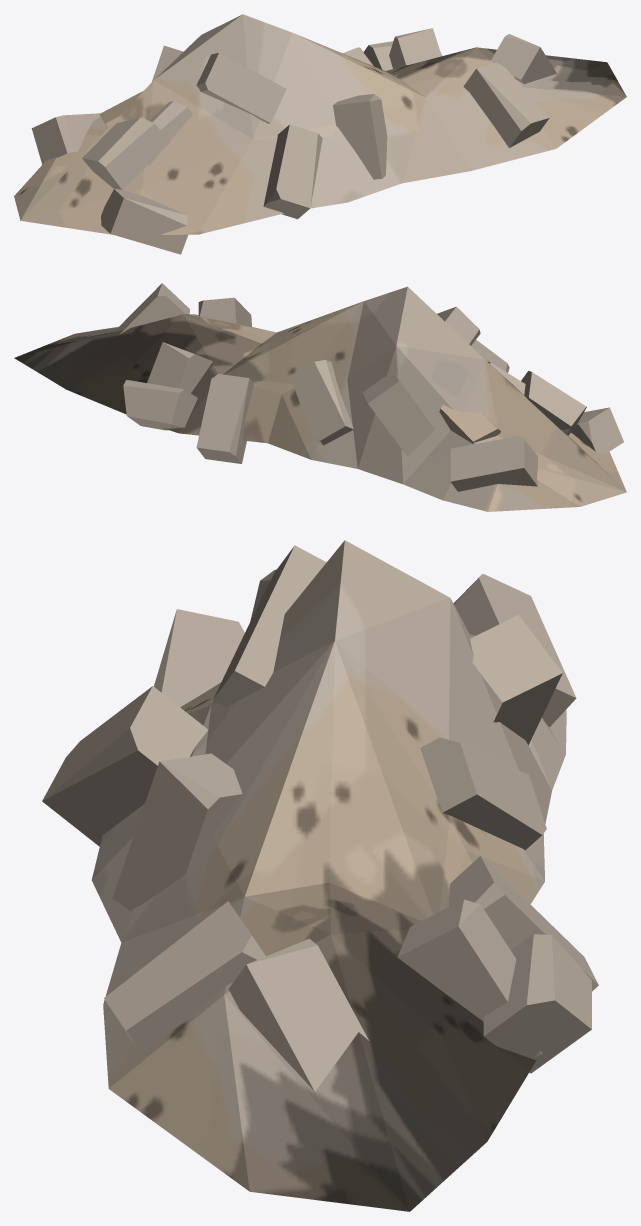
The model's file is SM_Prop_DebrisPile_02.fbx.
The picture shows the model from 3 angles, top to bottom: view 1: azimuth 30°, elevation 25°; view 2: azimuth 150°, elevation 25°; view 3: azimuth 270°, elevation 25°; orthographic projection. The views are drawn at different scales.
Visible parts, largest first — view 1: SM_Prop_DebrisPile_02; view 2: SM_Prop_DebrisPile_02; view 3: SM_Prop_DebrisPile_02.
Part boxes in pixels (box(x1,y1,x2,y2)): SM_Prop_DebrisPile_02: box(14, 14, 626, 254); SM_Prop_DebrisPile_02: box(14, 283, 626, 511); SM_Prop_DebrisPile_02: box(42, 540, 598, 1211).
Size of the model in its own units: 673 by 191 by 272.
